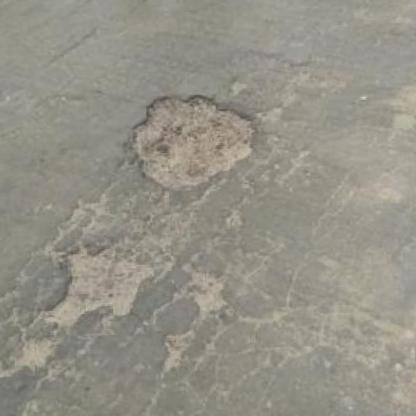pothole: (124, 88, 258, 192), (32, 241, 155, 326)
